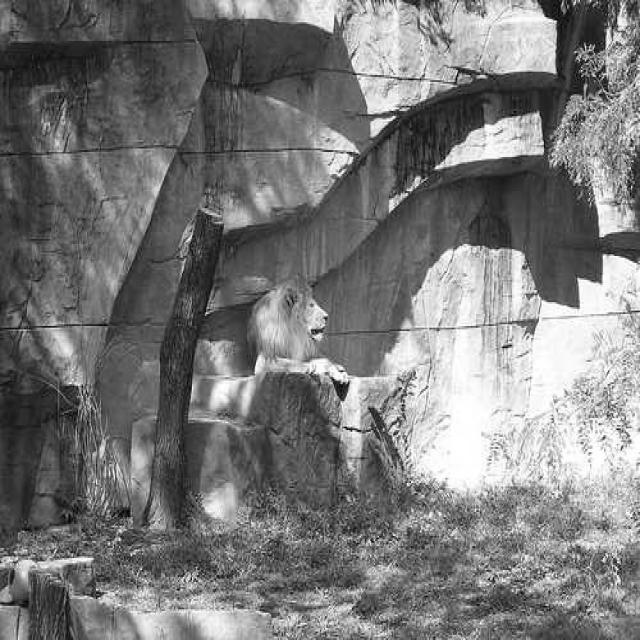Lion: (238, 250, 333, 363)
